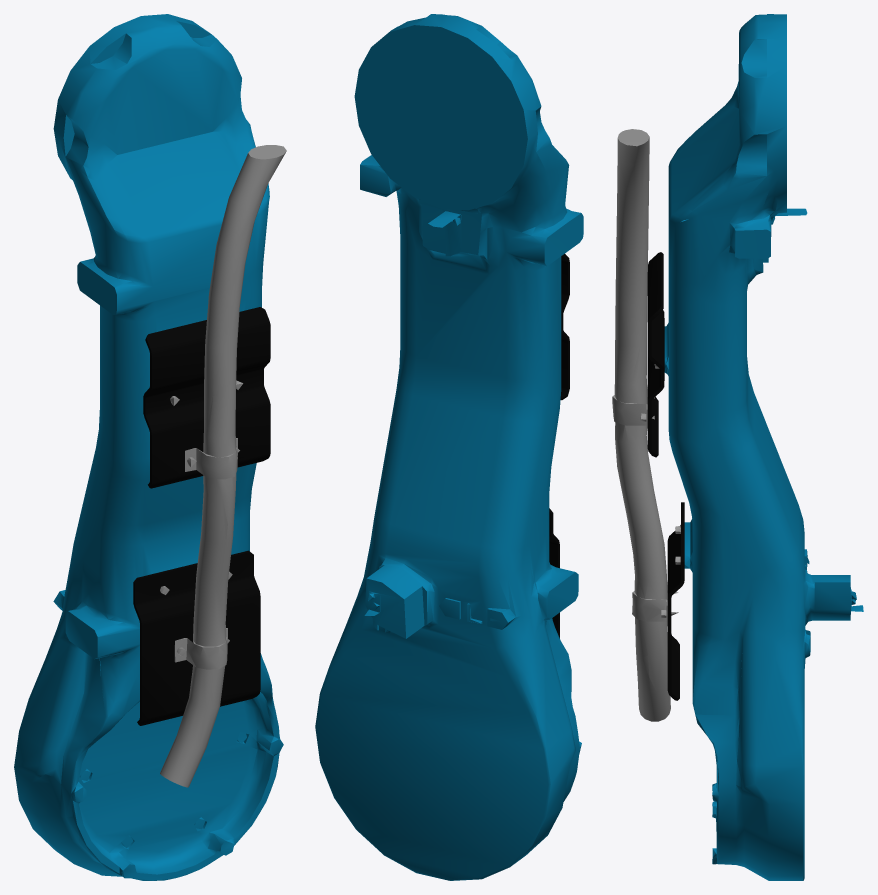
The picture shows the model from 3 angles, left to right: view 1: azimuth 30°, elevation 25°; view 2: azimuth 150°, elevation 25°; view 3: azimuth 270°, elevation 25°; orthographic projection.
Parts seen in each view (by area): view 1: pl80_lk2; view 2: pl80_lk2; view 3: pl80_lk2.
Boxes of the visible parts, <box> form: pl80_lk2: <box>14,14,286,880</box>; pl80_lk2: <box>315,14,583,880</box>; pl80_lk2: <box>612,14,863,880</box>.
Bounding box in the file's own units: 0.3402 × 0.3139 × 1.16.
